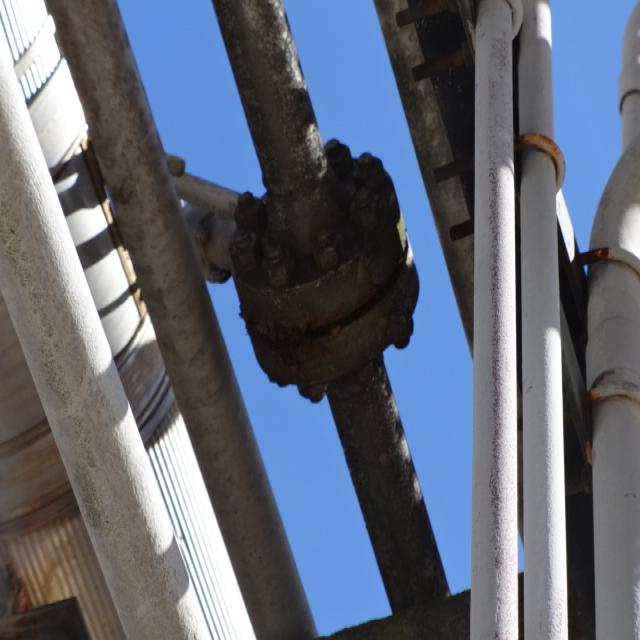gas: (44, 0, 316, 640), (209, 0, 457, 640), (0, 29, 206, 640), (470, 0, 521, 638), (519, 0, 567, 640), (593, 3, 640, 638)
